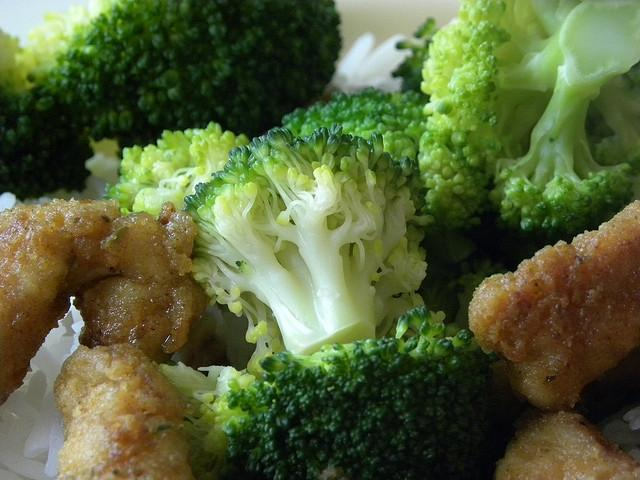broccoli: (0, 0, 342, 201), (183, 122, 435, 372), (416, 0, 640, 246), (219, 306, 501, 478), (101, 120, 256, 371), (270, 86, 433, 167), (392, 17, 440, 101), (456, 260, 510, 330)
